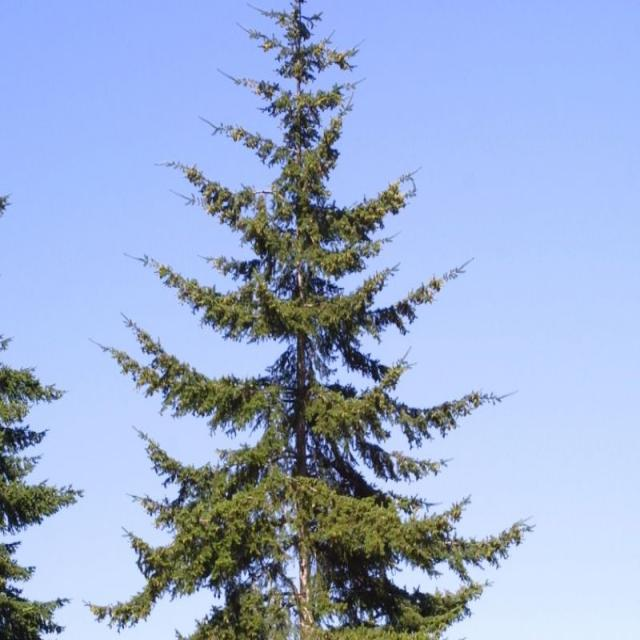Pseudotsuga menziesii: (134, 2, 494, 640)
